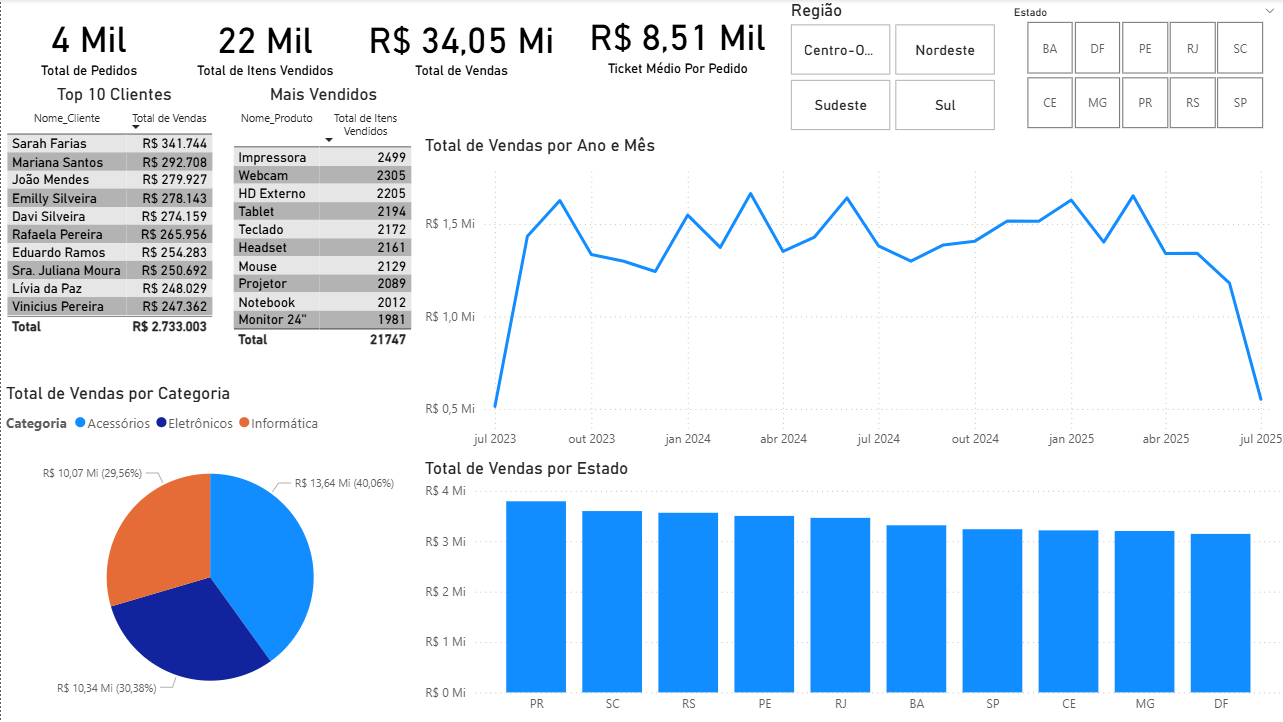

This screenshot's page, from the dashboard's own definition file:
{"tool":"powerbi","page":{"name":"Página 1","canvas":[1280,720],"ordinal":0},"visuals":[{"type":"card","fields":{"Values":["Calculos.Total_Vendas"]},"box":[175.4,1.2,175.4,87.1],"z":0},{"type":"card","fields":{"Values":["Calculos.Total_Venda"]},"box":[350.8,1.2,215.2,87.1],"z":1000},{"type":"card","fields":{"Values":["Calculos.Total de Pedidos"]},"box":[0,0,175.4,88.3],"z":2000},{"type":"card","fields":{"Values":["Calculos.Ticket Médio Por Pedido"]},"box":[566,0,215.2,84.6],"z":3000},{"type":"lineChart","fields":{"Y":["Calculos.Total de Vendas"],"Category":["Vendas.Data_Venda.Variation.Hierarquia de datas.Ano","Vendas.Data_Venda.Variation.Hierarquia de datas.Mês"]},"box":[416.7,135.6,863.3,320.9],"z":4000},{"type":"columnChart","fields":{"Category":["Regiões.Estado"],"Y":["Calculos.Total de Vendas"]},"box":[416.7,456.5,863.3,263.7],"z":5000},{"type":"advancedSlicerVisual","fields":{"Values":["Regiões.Região"]},"box":[781.2,1.2,214,134.3],"z":6000},{"type":"pieChart","fields":{"Category":["Produtos.Categoria"],"Y":["Calculos.Total de Vendas"]},"box":[0,381.9,416.7,338.4],"z":7000},{"type":"tableEx","title":"Mais Vendidos","fields":{"Values":["Produtos.Nome_Produto","Calculos.Total de Itens Vendidos"]},"box":[225.2,84.6,191.6,274.9],"z":8000},{"type":"tableEx","title":"Top 10 Clientes","fields":{"Values":["Clientes.Nome_Cliente","Calculos.Total de Vendas"]},"box":[0,84.6,225.2,274.9],"z":9000},{"type":"slicer","fields":{"Values":["Regiões.Estado"]},"box":[995.2,1.2,284.9,134.3],"z":10000}]}

Visuals, with their boxes in screenshot pixels (x1, y1, x2, y2), scaled from the page's 1280x720 canvas onto the 1283x722 screenshot:
card - Calculos.Total_Vendas: 176 1 352 89
card - Calculos.Total_Venda: 352 1 567 89
card - Calculos.Total de Pedidos: 0 0 176 89
card - Calculos.Ticket Médio Por Pedido: 567 0 783 85
lineChart - Calculos.Total de Vendas x Vendas.Data_Venda.Variation.Hierarquia de datas.Ano: 418 136 1282 458
columnChart - Regiões.Estado x Calculos.Total de Vendas: 418 458 1282 721
advancedSlicerVisual - Regiões.Região: 783 1 998 136
pieChart - Produtos.Categoria x Calculos.Total de Vendas: 0 383 418 721
"Mais Vendidos" tableEx: 226 85 418 360
"Top 10 Clientes" tableEx: 0 85 226 360
slicer - Regiões.Estado: 998 1 1282 136
